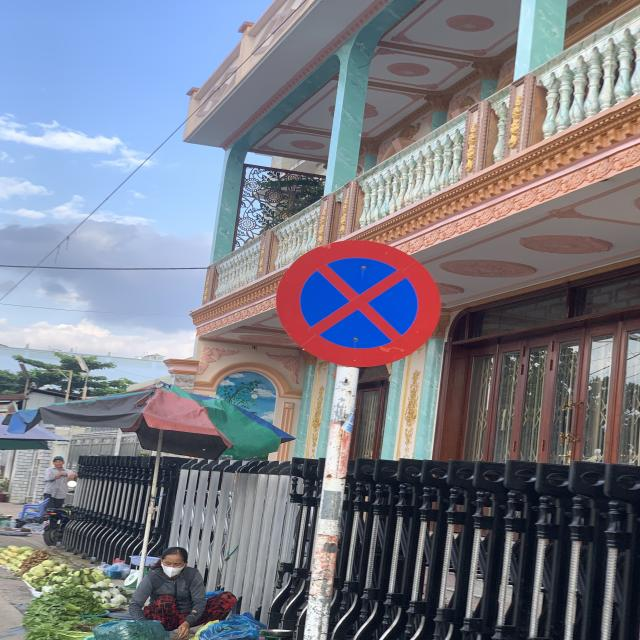Cam_Dung_Va_Dau_Xe: (279, 239, 443, 366)
